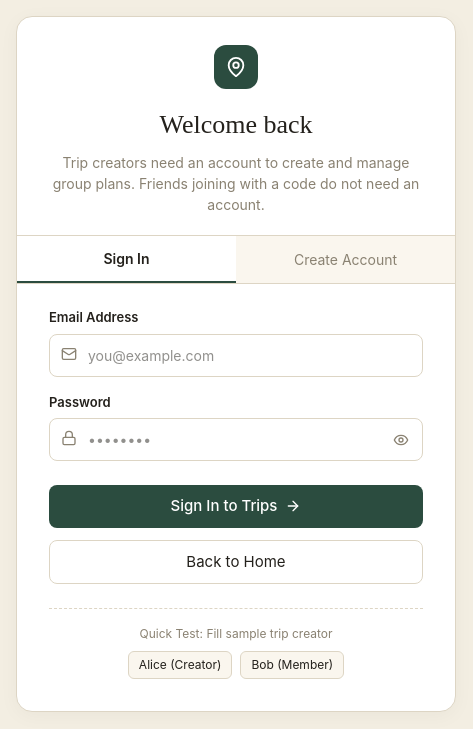
Test: AuthPage Show Password Feature › toggles password visibility in Sign In (Login) mode
The width and height of the screenshot is (473, 729).
// Click show password
Click the button titled "Show password".
click(401, 440)  # box [389,428,413,452]
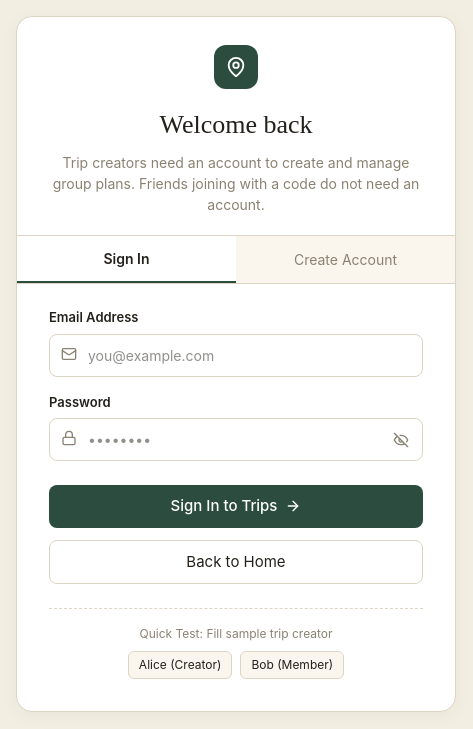
Expected: the button named "Hide characters" is shown
Expected: the button titled "Hide password" is shown
// Click hide password
Click the button titled "Hide password".
click(401, 440)  # box [389,428,413,452]
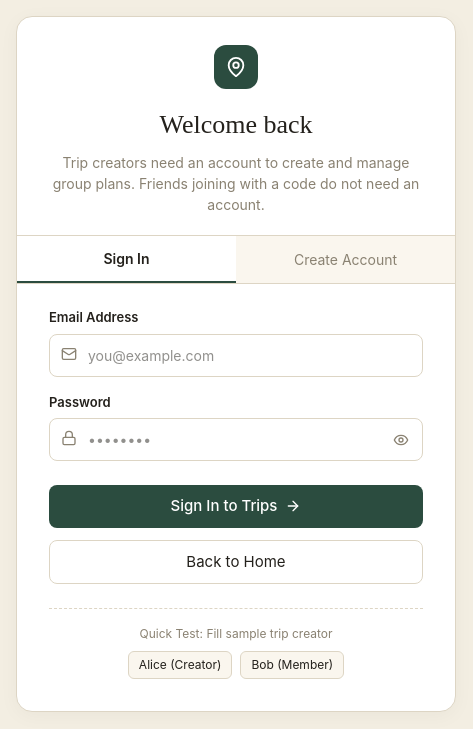
Expected: the button named "Show characters" is shown, [389,428,413,452]
